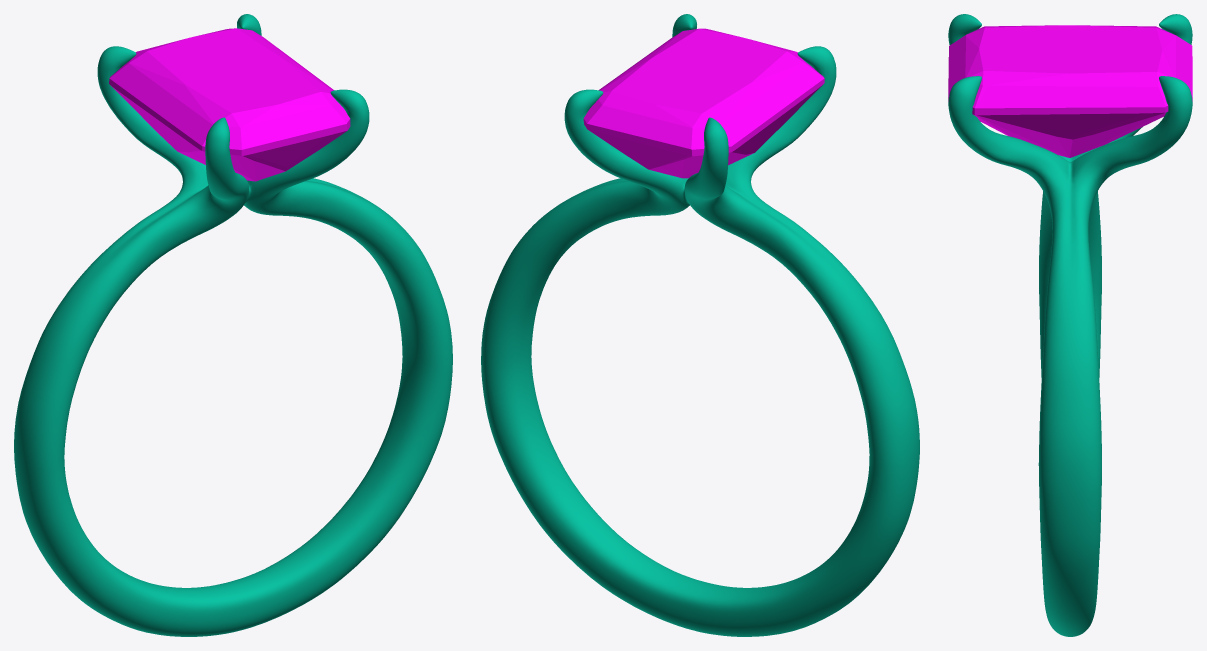
Rendered from BE1353_RA_200ct_RENDER.glb.
The picture shows the model from 3 angles, left to right: view 1: azimuth 30°, elevation 25°; view 2: azimuth 150°, elevation 25°; view 3: azimuth 270°, elevation 25°; orthographic projection.
Parts seen in each view (by area): view 1: Metal 01, CS_Diamond_Radiant; view 2: Metal 01, CS_Diamond_Radiant; view 3: Metal 01, CS_Diamond_Radiant.
Boxes of the visible parts, x1,y1,x2,y2 form: Metal 01: (14,14,452,636); CS_Diamond_Radiant: (109,28,350,181); Metal 01: (481,14,919,636); CS_Diamond_Radiant: (583,28,824,178); Metal 01: (948,14,1192,636); CS_Diamond_Radiant: (948,25,1192,157).
Size of the model in its own units: 20.04 by 25.22 by 9.87.
